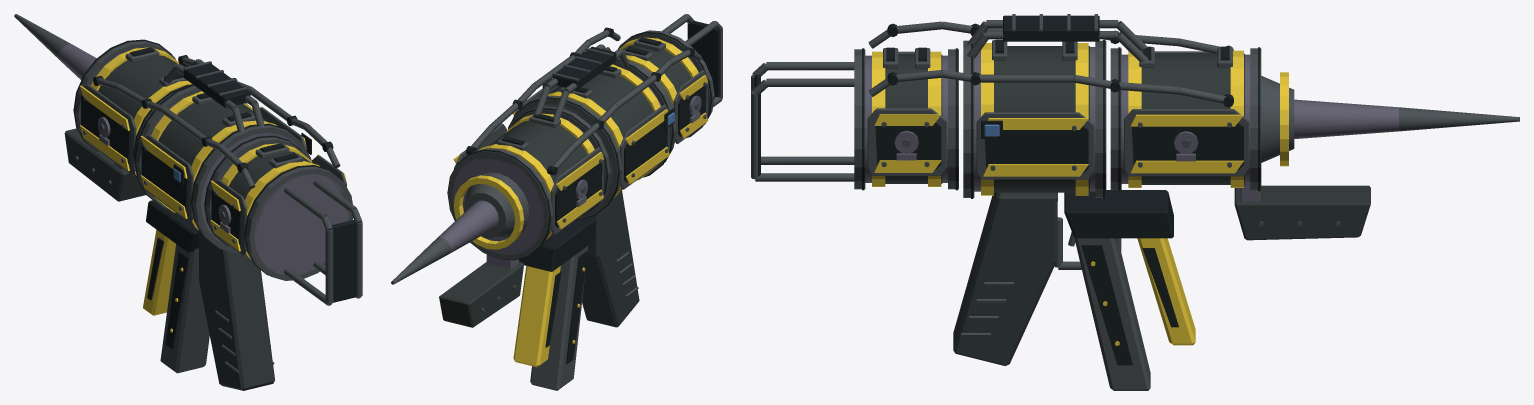
File: smg_2.glb
3 renders of one model, left to right at view 1: azimuth 30°, elevation 25°; view 2: azimuth 150°, elevation 25°; view 3: azimuth 270°, elevation 25°, orthographic. The views are drawn at different scales.
Parts seen in each view (by area): view 1: Weapon_smg_v1; view 2: Weapon_smg_v1; view 3: Weapon_smg_v1.
Part boxes in pixels (x1,y1,x2,y2): Weapon_smg_v1: (14,14,362,390); Weapon_smg_v1: (391,14,722,390); Weapon_smg_v1: (751,14,1519,390).
Size of the model in its own units: 0.162 by 0.363 by 0.699.
